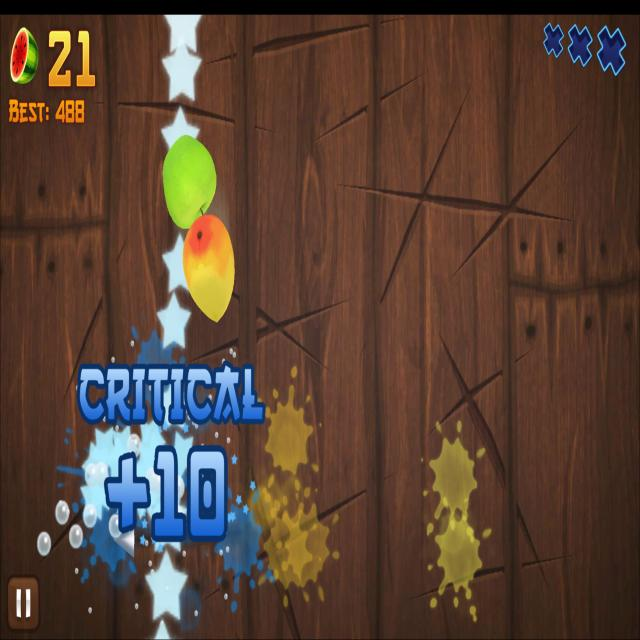fruit: (182, 213, 236, 322), (162, 133, 218, 229)
